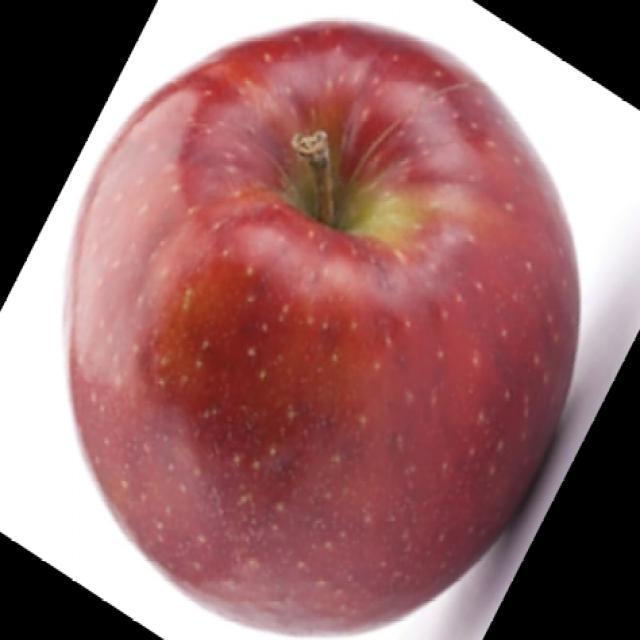Fresh Apple: (74, 41, 593, 640)
